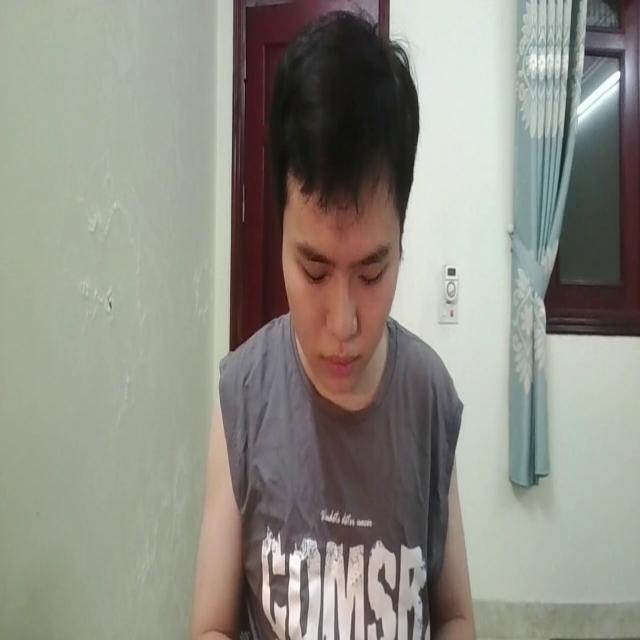student: (200, 10, 475, 640)
